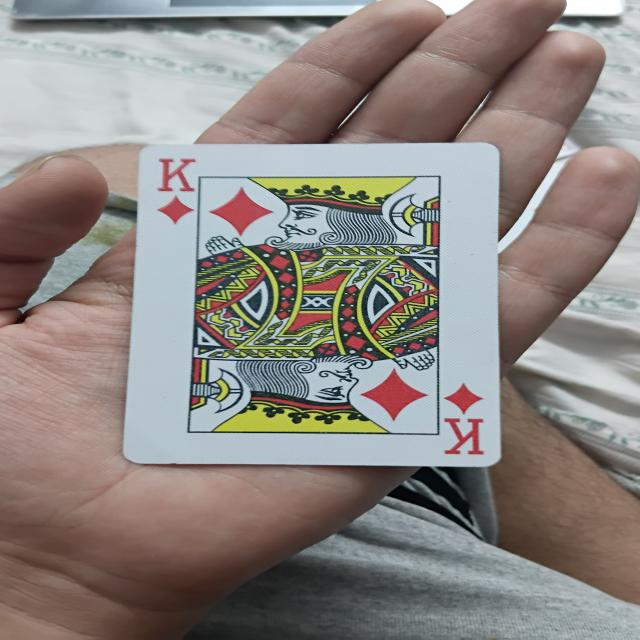KD: (128, 144, 513, 472)
